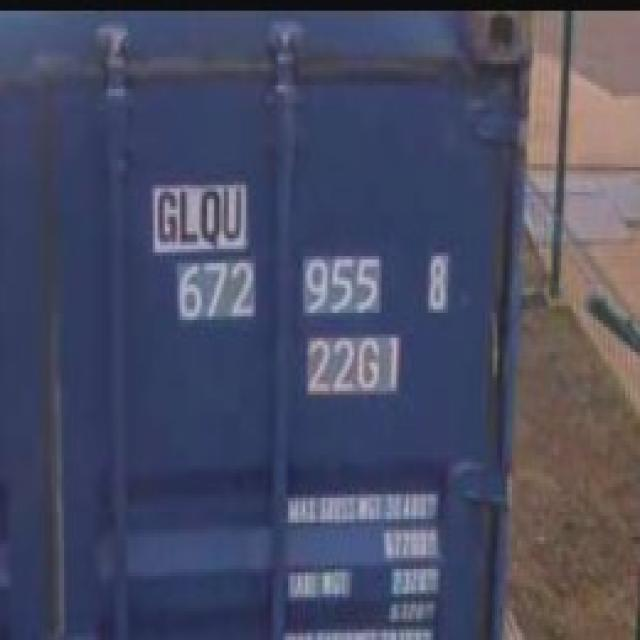dv: (423, 252, 452, 314)
owner: (150, 186, 246, 251)
serial: (173, 258, 386, 321)
size: (301, 329, 403, 400)
